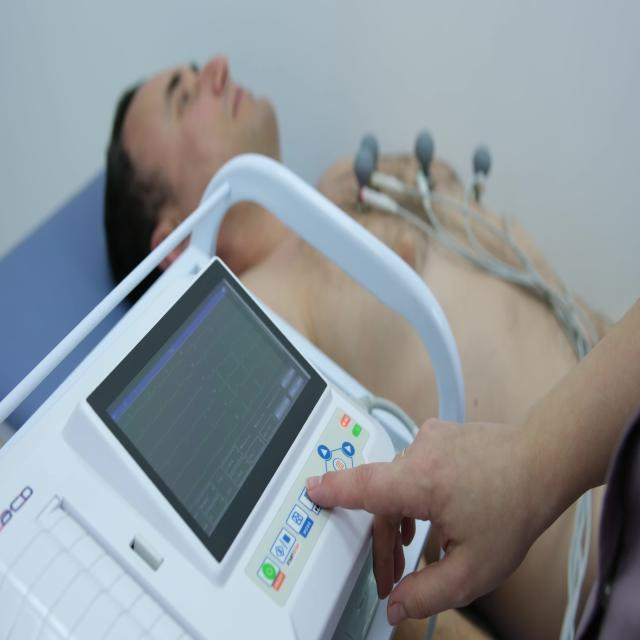Monitor: (1, 151, 466, 640)
